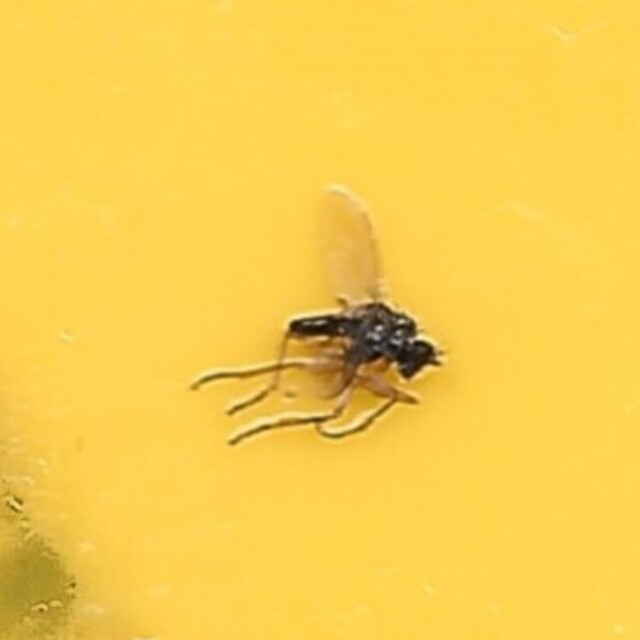Brachycera: (192, 187, 448, 453)
